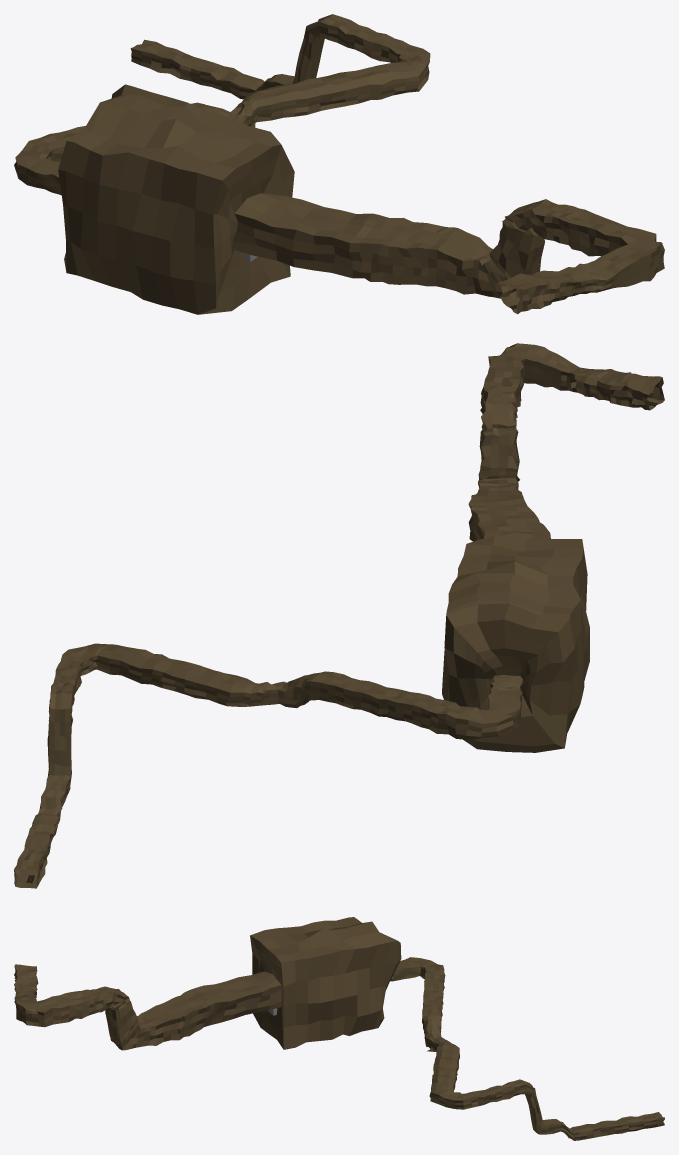
Rendered from MineAveChemin.FBX.
3 views of the same model, one above another, from view 1: azimuth 30°, elevation 25°; view 2: azimuth 150°, elevation 25°; view 3: azimuth 270°, elevation 25° (orthographic). The views are drawn at different scales.
Parts seen in each view (by area): view 1: Mine00, Mine13, Mine15, Mine10, Mine08, Mine11, Mine12, Mine14, Mine07, Mine01, Mine04, Mine03 (+3 smaller); view 2: Mine00, Mine05, Mine08, Mine07, Mine13, Mine01, Mine11, Mine14, Mine09, Mine12, Mine10, Mine03 (+2 smaller); view 3: Mine00, Mine13, Mine15, Mine10, Mine11, Mine02, Mine05, Mine01, Mine03, Mine07, Mine12, Mine08 (+4 smaller).
Part boxes in pixels (x1,y1,x2,y2): Mine00: (58,84,294,314); Mine13: (349,213,493,297); Mine15: (233,193,372,278); Mine10: (522,199,655,256); Mine08: (279,62,407,116); Mine11: (482,202,544,298); Mine12: (580,234,664,292); Mine14: (498,264,593,314); Mine07: (14,132,68,195); Mine01: (198,85,296,127); Mine04: (319,14,394,60); Mine03: (189,60,279,99); Mine00: (442,535,589,752); Mine05: (309,671,454,733); Mine08: (108,646,219,699); Mine07: (437,683,522,739); Mine13: (468,485,549,541); Mine01: (205,672,319,707); Mine11: (478,410,519,487); Mine14: (575,369,664,410); Mine09: (45,692,72,801); Mine12: (493,343,589,392); Mine10: (480,356,525,423); Mine03: (25,789,65,856); Mine00: (250,917,401,1049); Mine13: (135,989,220,1047); Mine15: (193,971,281,1025); Mine10: (37,986,118,1026); Mine11: (105,988,141,1050); Mine02: (429,1085,484,1109); Mine05: (422,973,444,1021); Mine01: (422,1014,459,1061); Mine03: (556,1119,622,1140); Mine07: (390,957,445,981); Mine12: (14,990,44,1027); Mine08: (431,1052,458,1090).
Bounding box in the file's own units: 10075 × 4265 × 20372.
